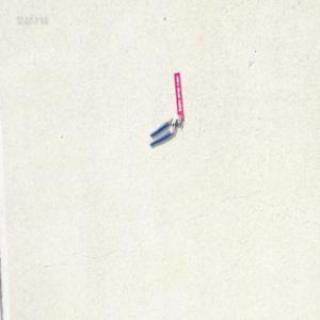LuggageTagtrack_idkeyframe: (173, 70, 184, 119)
Pliertrack_idkeyframe: (148, 112, 182, 146)
